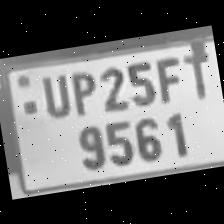1: (159, 104, 195, 158)
2: (92, 60, 130, 114)
5: (97, 113, 136, 168), (120, 54, 157, 107)
6: (129, 111, 166, 164)
9: (70, 118, 106, 172)
F: (150, 54, 184, 106)
P: (64, 64, 101, 118)
T: (178, 41, 215, 102)
U: (35, 67, 72, 121)
